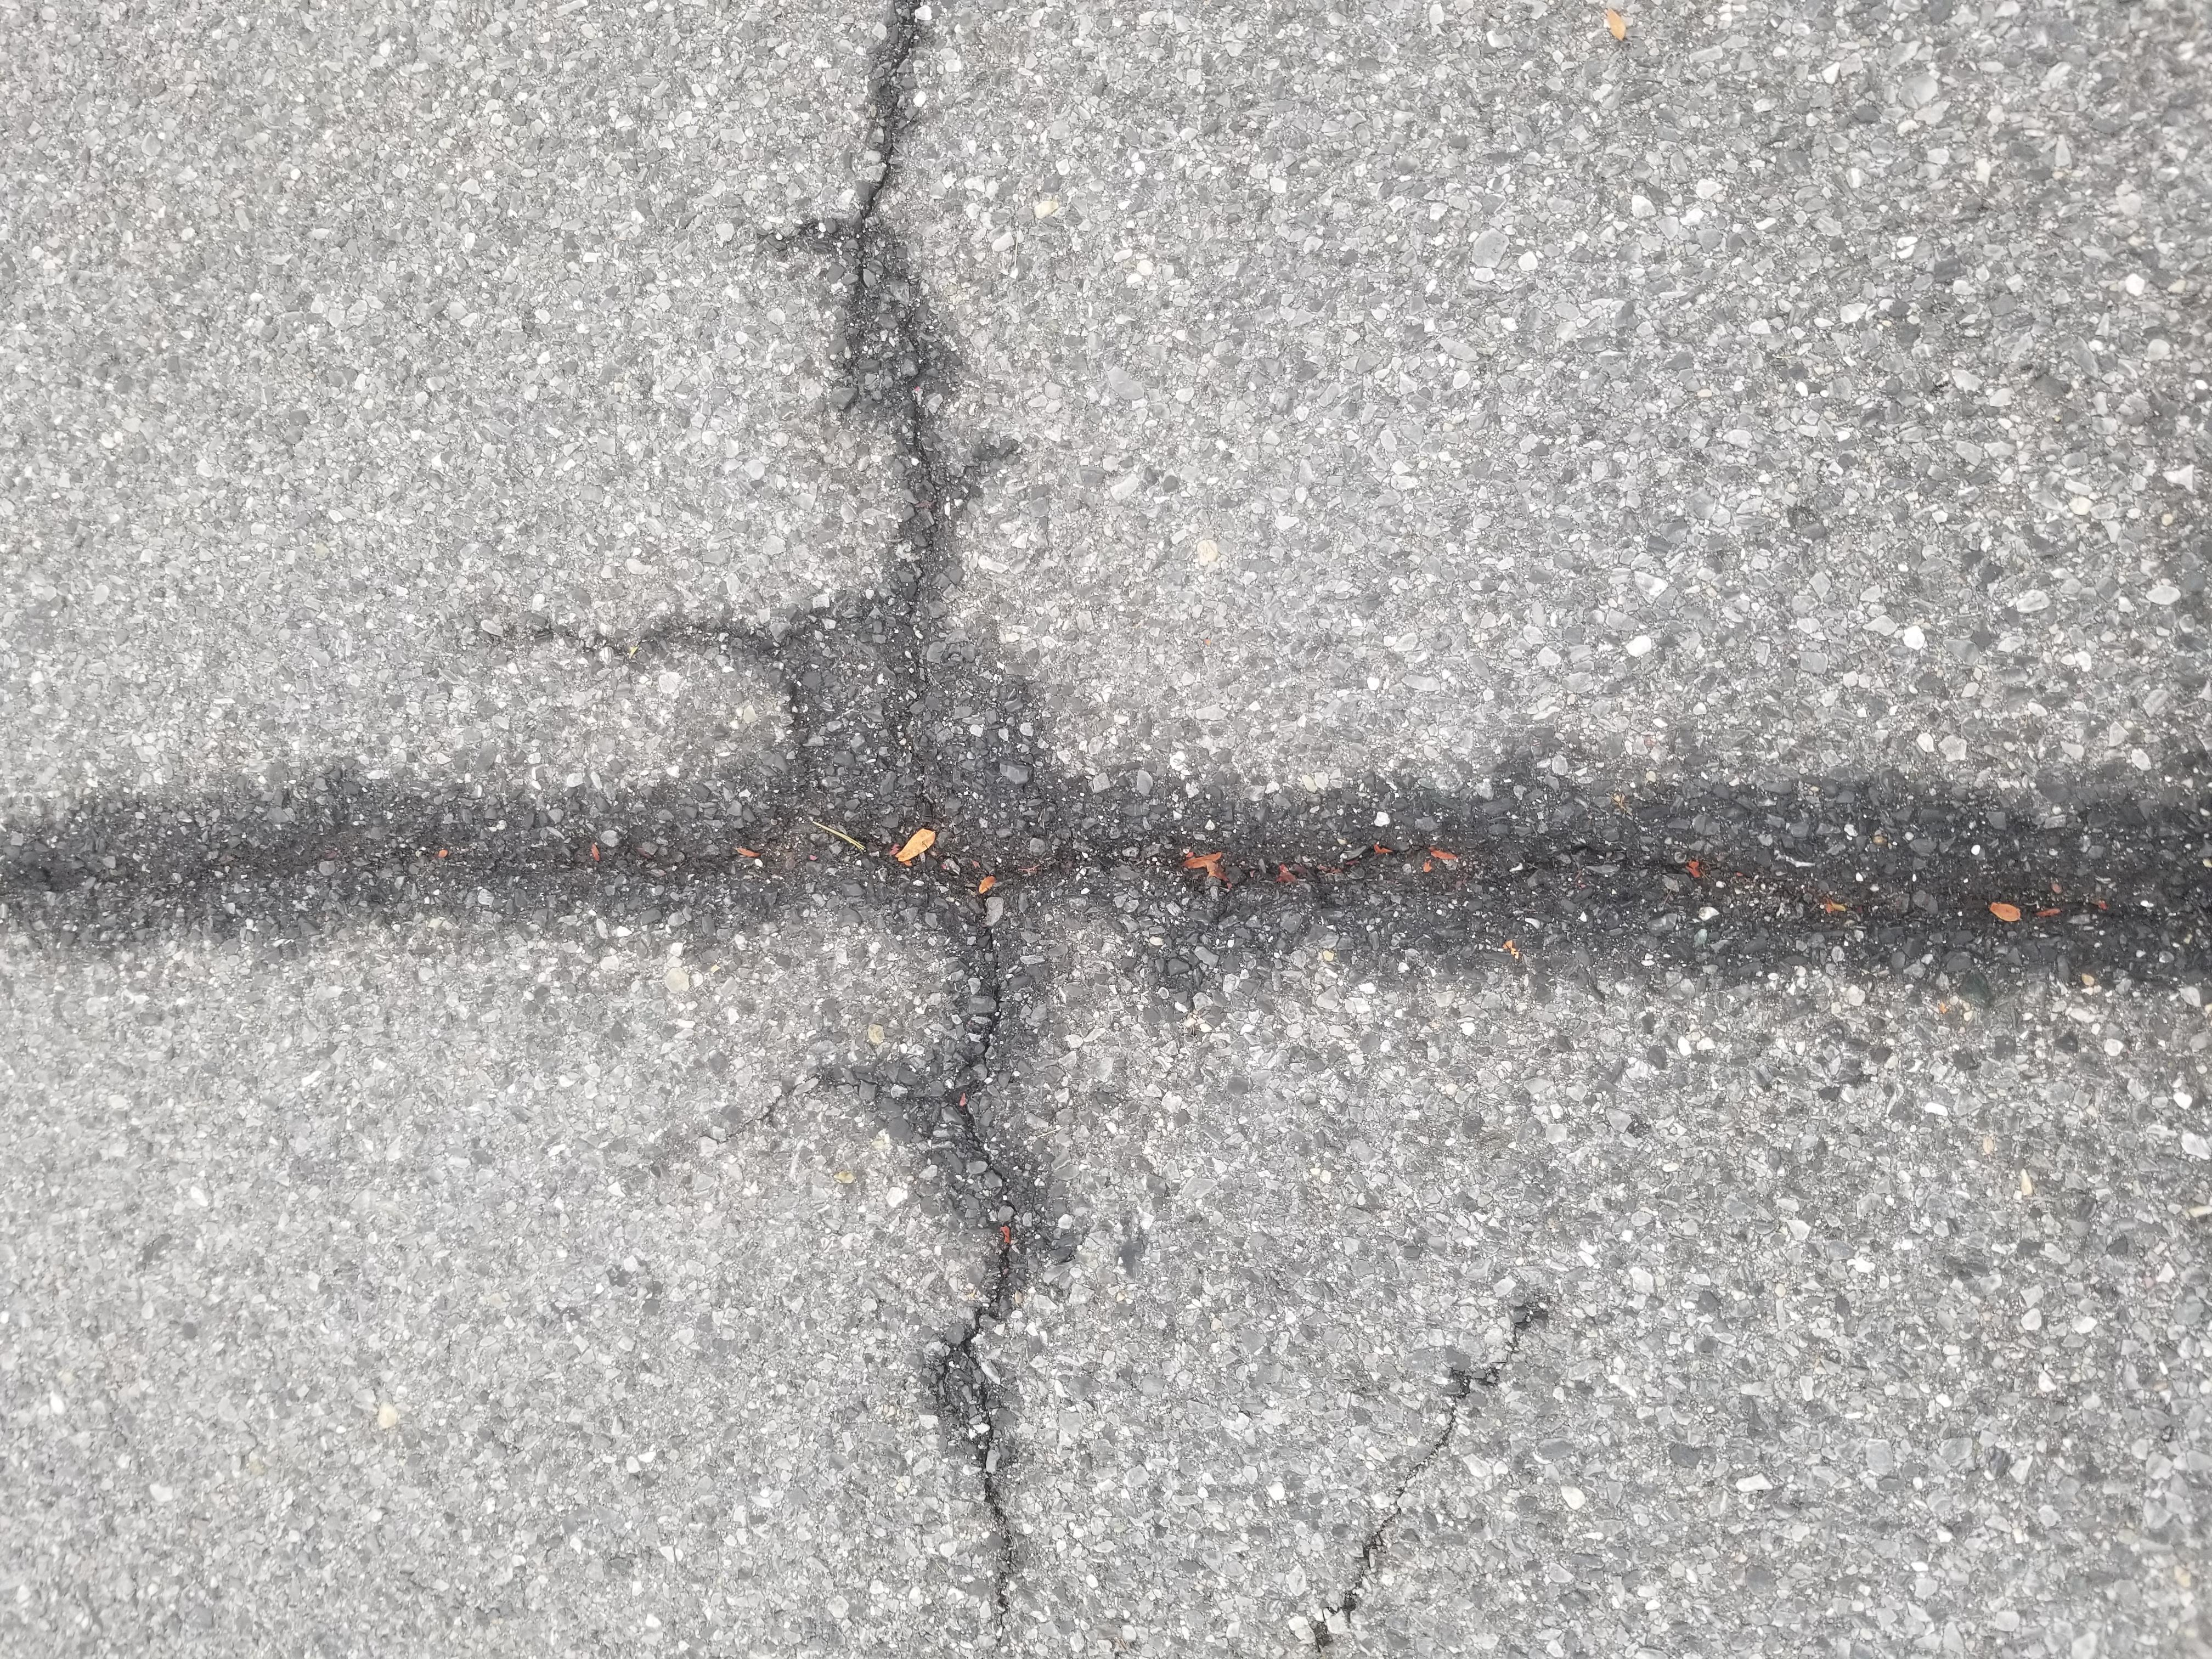crack: (106, 575, 2151, 854), (900, 12, 1137, 1659), (0, 969, 495, 1168)
